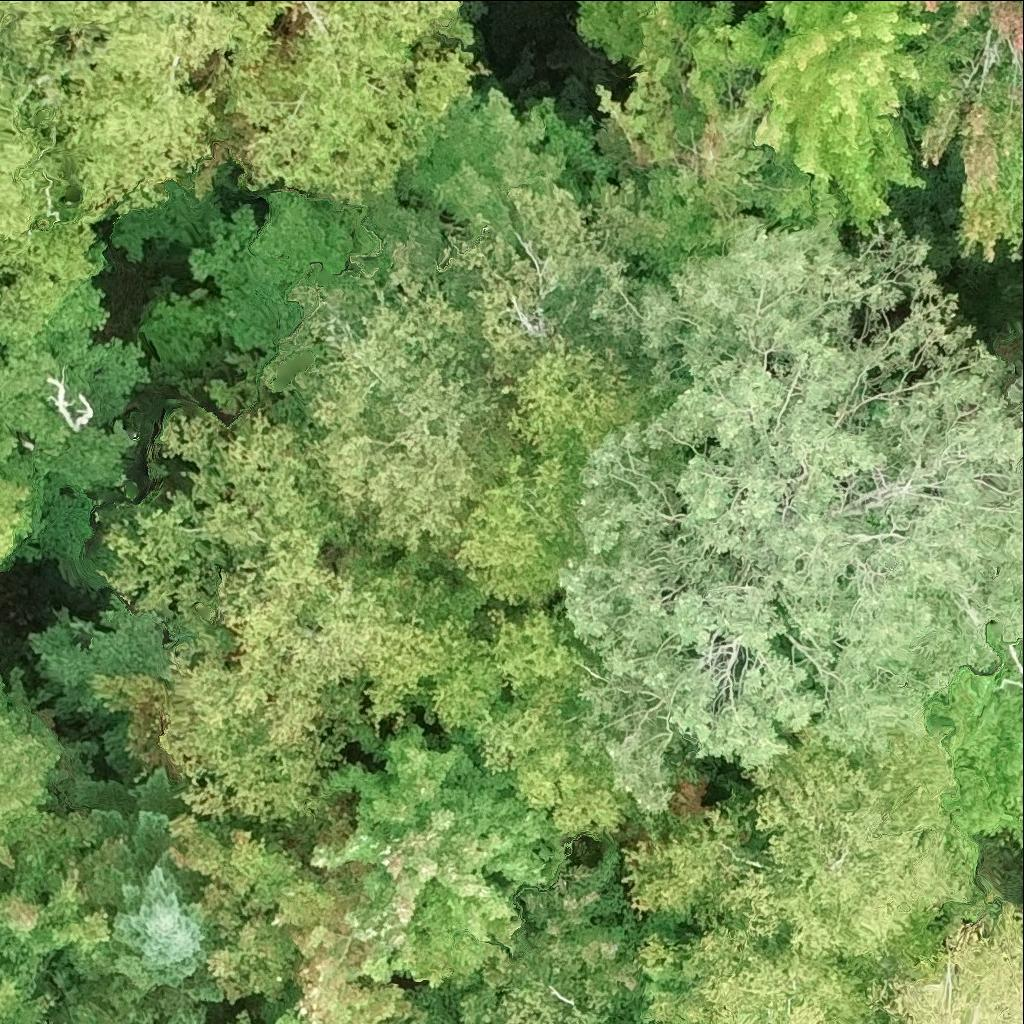crown: (565, 221, 1023, 811), (0, 0, 480, 256), (160, 530, 502, 823), (624, 711, 978, 959), (576, 0, 850, 286), (307, 723, 567, 987), (99, 408, 340, 666), (453, 341, 647, 605), (263, 243, 483, 472), (746, 0, 924, 234), (315, 352, 516, 551), (69, 767, 223, 1023), (472, 613, 639, 840), (166, 812, 354, 999), (438, 184, 612, 383), (923, 0, 1023, 262), (642, 914, 880, 1023), (0, 808, 116, 1023), (864, 904, 1023, 1023), (0, 289, 97, 454), (287, 928, 422, 1023), (0, 676, 64, 870), (0, 425, 36, 566), (40, 1001, 114, 1023), (1012, 645, 1023, 674), (1000, 679, 1023, 689), (927, 0, 942, 15), (281, 1013, 301, 1023)
